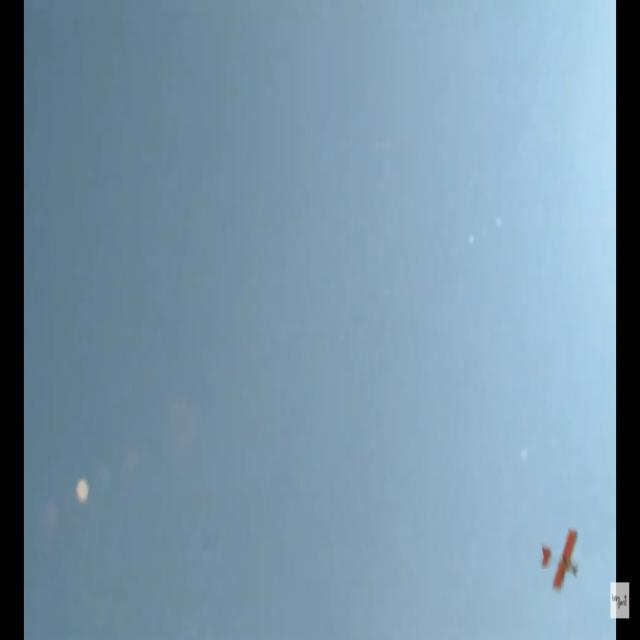iha: (533, 552, 580, 565)
